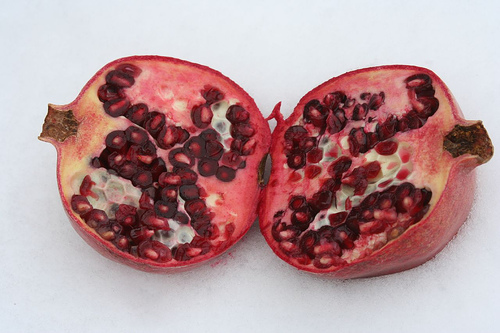pomogranate: (39, 53, 494, 278)
